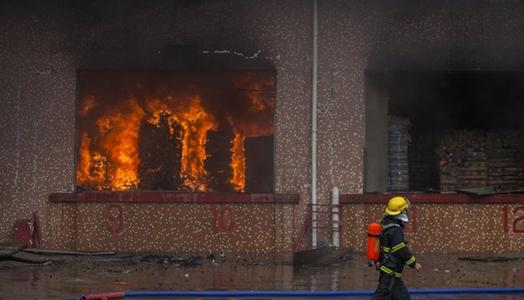fire: (79, 74, 273, 189)
smoke: (68, 9, 257, 62)
